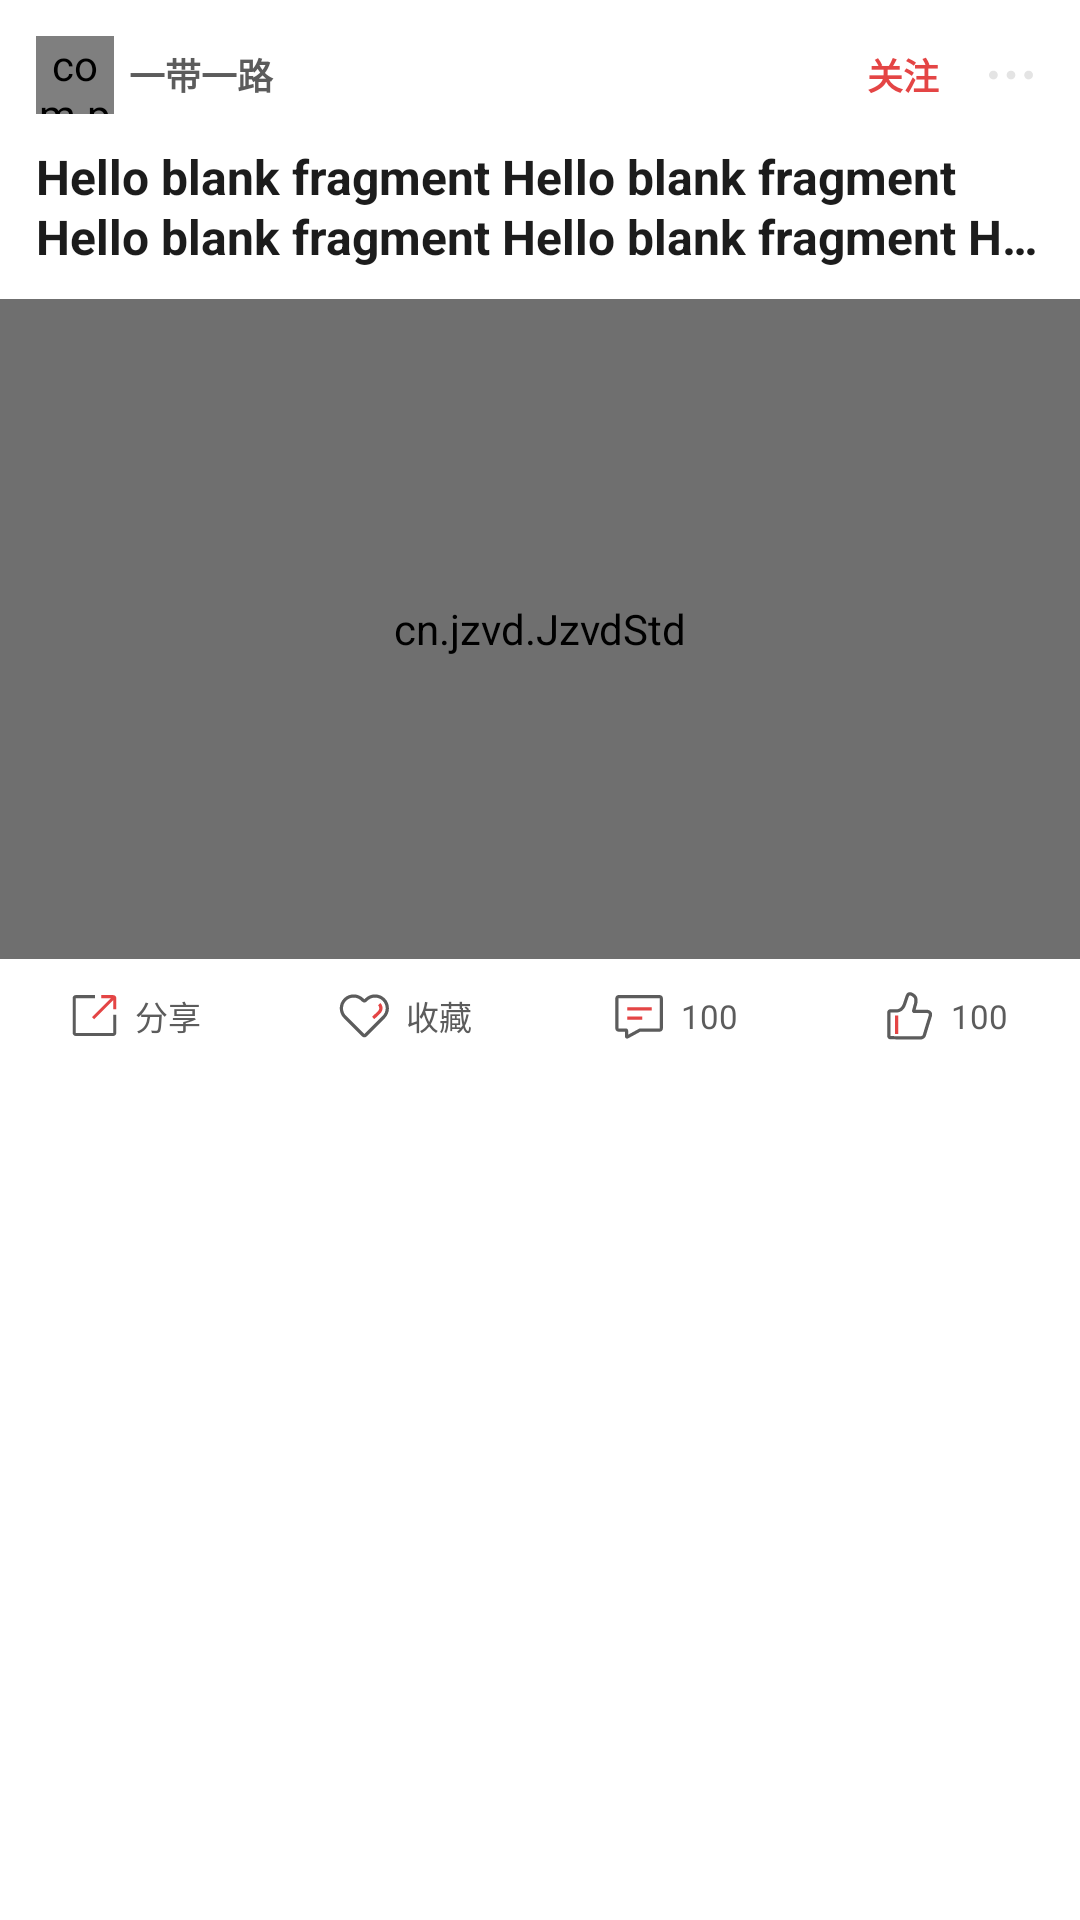

Icon bounding boxes for this 1080×1920 phone screenshot, format (x1, y1, x2, y2):
item good: (887, 992, 932, 1040)
item like: (339, 994, 389, 1038)
item many: (989, 71, 1032, 79)
item msg: (615, 995, 663, 1039)
